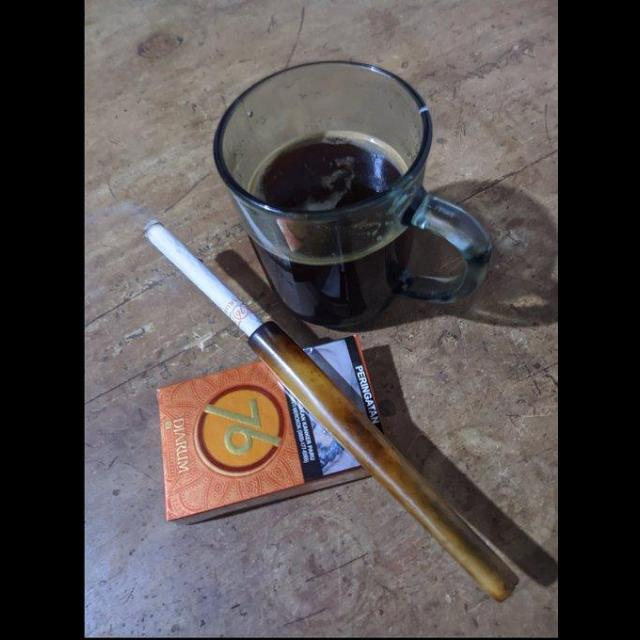rokok: (142, 218, 264, 344)
